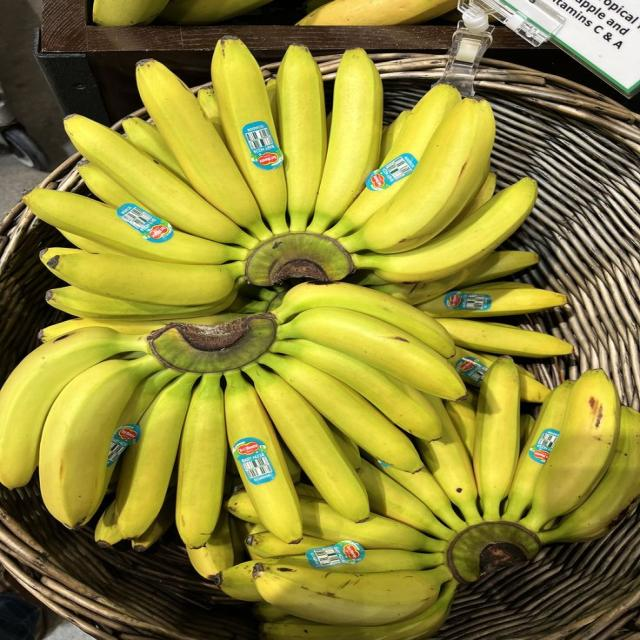unpeal banana: (65, 115, 257, 248), (136, 60, 270, 239), (340, 98, 494, 253), (0, 328, 145, 488), (39, 356, 161, 528), (327, 85, 460, 238), (245, 366, 370, 521), (260, 353, 422, 472), (353, 178, 537, 282), (279, 308, 466, 399), (24, 189, 248, 264), (272, 340, 440, 439), (521, 370, 619, 531), (212, 36, 287, 234), (307, 49, 382, 233), (273, 282, 454, 358), (538, 407, 639, 543), (116, 374, 199, 538), (225, 370, 302, 543), (253, 564, 451, 625), (40, 248, 243, 306), (261, 580, 457, 639), (503, 381, 574, 521), (276, 45, 326, 232), (175, 374, 226, 548), (416, 395, 481, 524), (300, 496, 446, 553), (358, 460, 454, 540), (473, 357, 519, 520), (374, 460, 466, 531), (46, 286, 235, 320), (39, 313, 240, 341), (417, 282, 566, 319), (438, 318, 573, 357), (123, 117, 189, 183), (362, 268, 469, 307), (298, 0, 455, 26), (320, 543, 444, 573), (77, 161, 143, 209), (187, 512, 233, 579), (460, 251, 539, 286), (160, 0, 271, 24), (452, 171, 497, 225), (132, 496, 174, 552), (212, 560, 264, 602), (445, 389, 477, 457), (247, 532, 333, 557), (93, 0, 167, 26), (379, 110, 411, 165), (450, 348, 495, 387), (197, 89, 224, 140), (94, 501, 123, 547), (266, 77, 279, 130)
